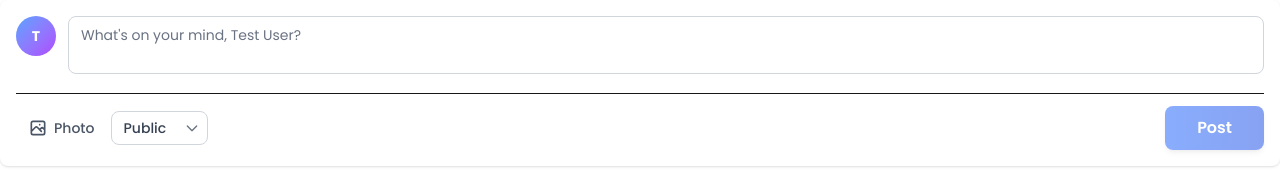
Test: CreatePostForm Component › should enable submit button when content is provided
Type "My new post" into the text box at (666, 45), box [68,16,1264,74]
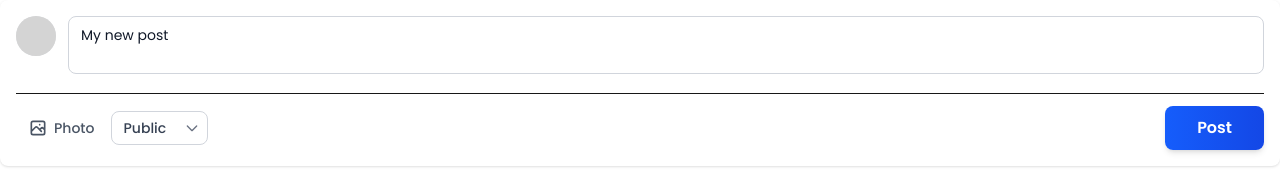
Result: the button "Post" is enabled at [1165,106,1264,150]
